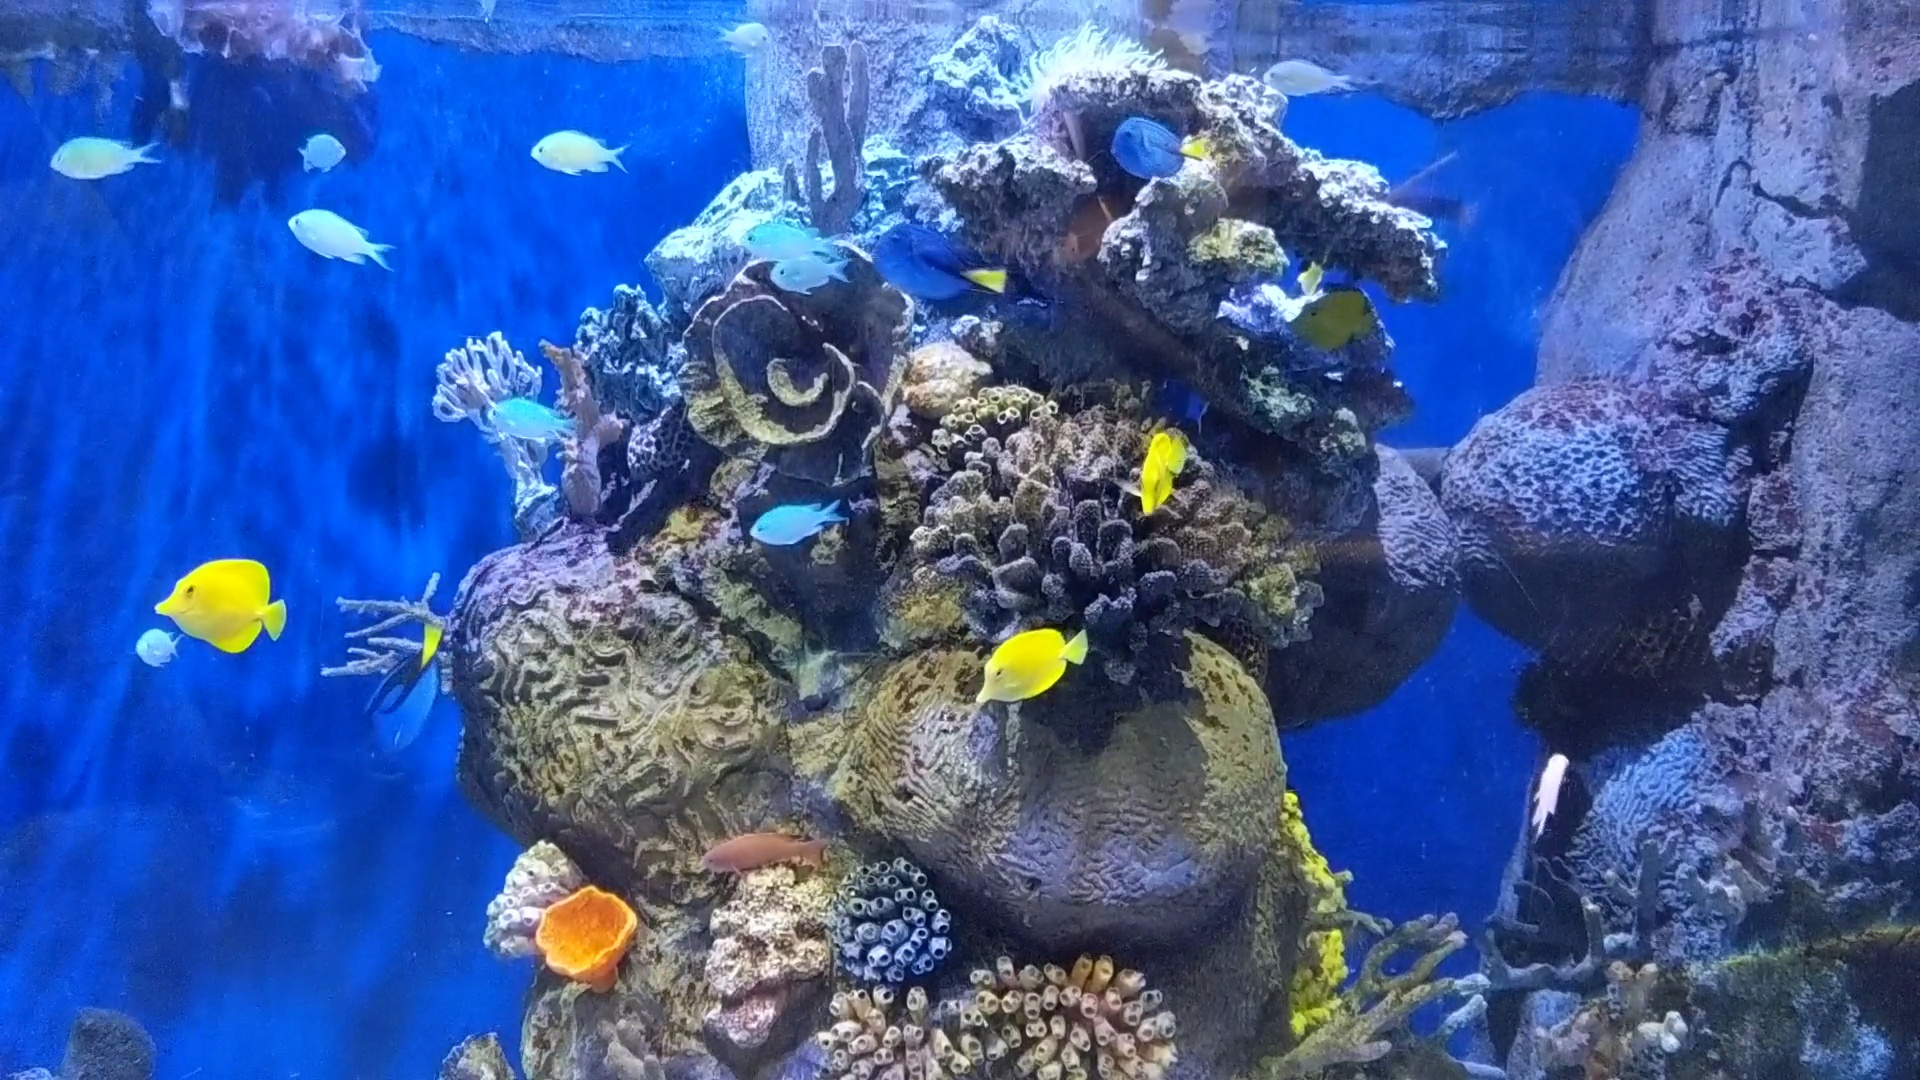blue tang surgeonfish: (862, 208, 1023, 313), (357, 618, 458, 756), (1101, 109, 1230, 181)
damselfish: (262, 191, 400, 287), (36, 115, 179, 199), (731, 483, 872, 560), (465, 390, 593, 456), (735, 203, 837, 266), (512, 129, 638, 179), (99, 616, 200, 676), (760, 241, 853, 305), (1251, 53, 1362, 105), (290, 123, 371, 181), (709, 18, 779, 63)
pink fish: (1509, 724, 1588, 843)
saddle butterfly fish: (131, 546, 316, 674), (938, 615, 1089, 723), (1120, 414, 1205, 531)
